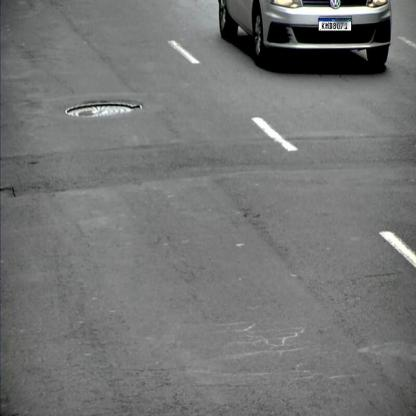PlacaM: (318, 18, 352, 31)
